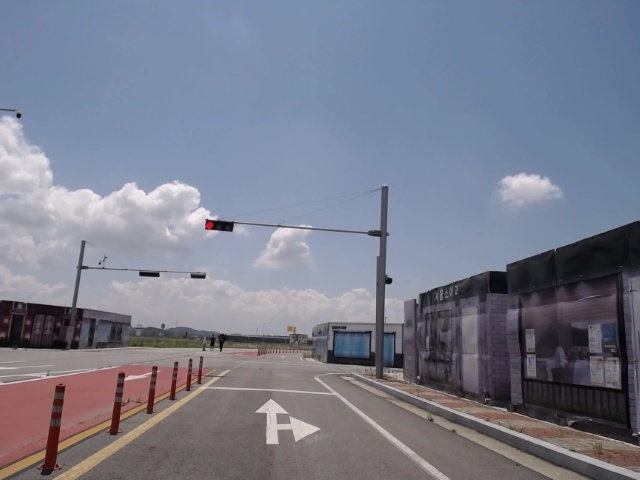red_3: (206, 220, 235, 232)
